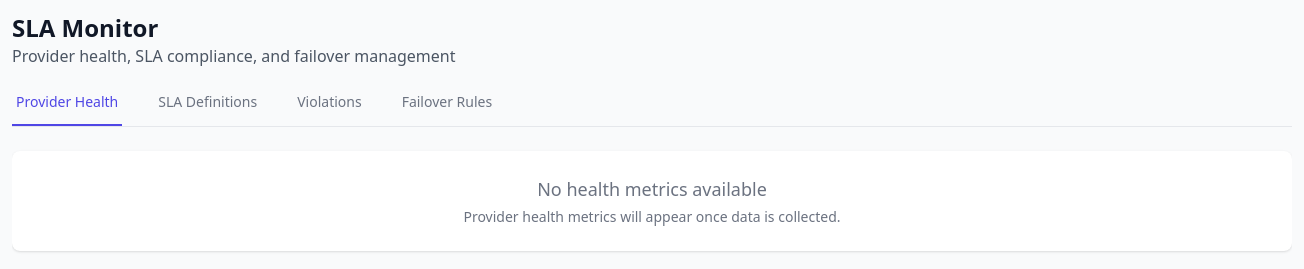
Test case: SLAMonitoring › switches to Failover Rules tab and shows empty state
Click the button "Failover Rules" at (447, 109), box [398,92,496,126]
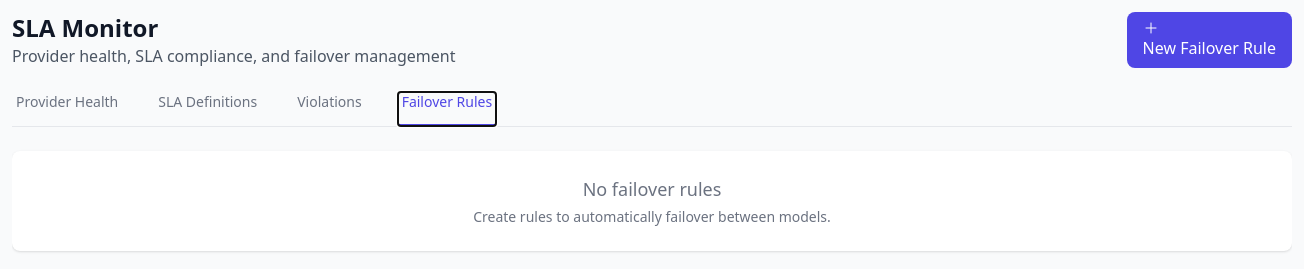
Check: the text "No failover rules" is shown, box [583,177,721,201]
Check: the text "Create rules to automatically failover between models." is shown, box [473,207,831,226]
